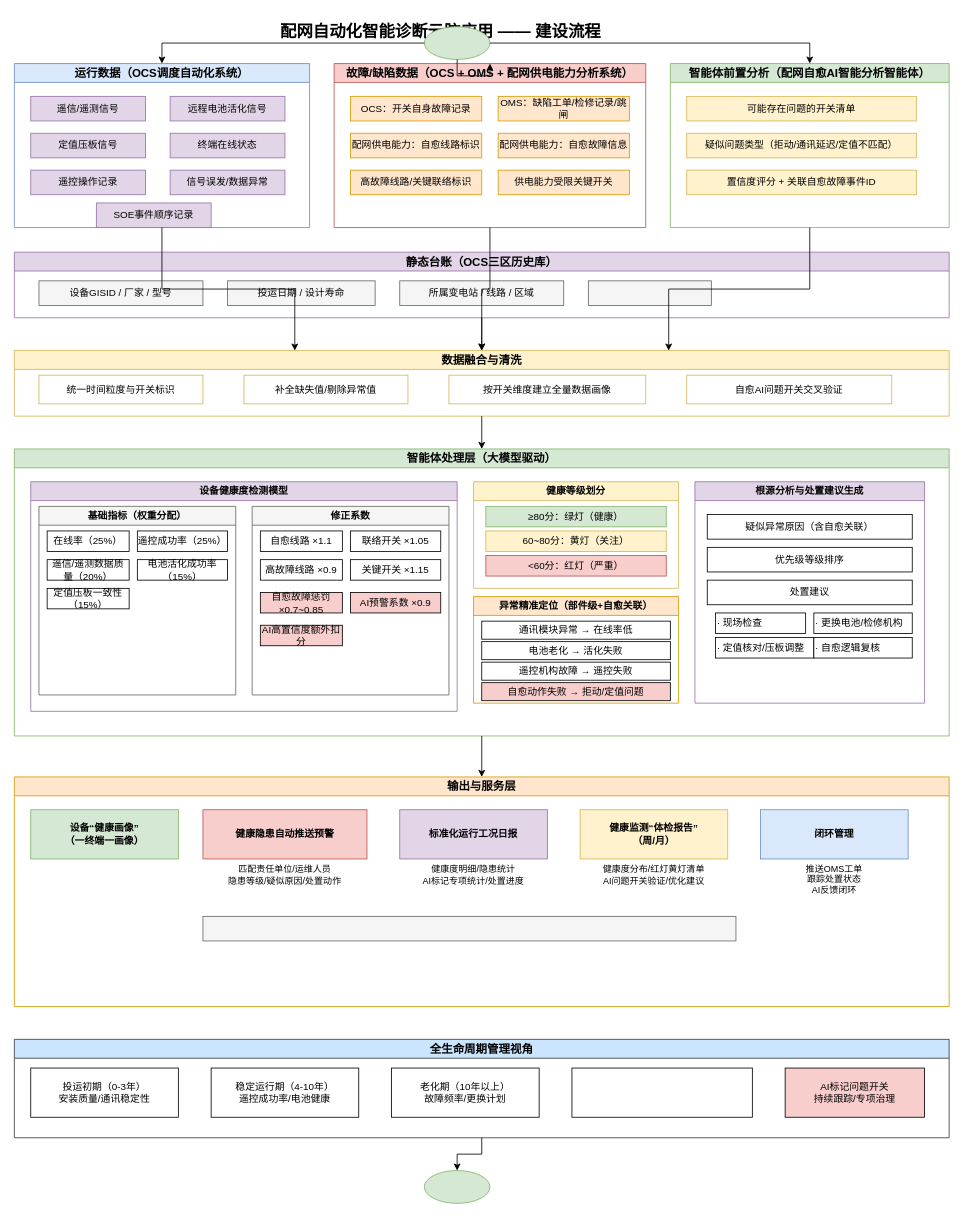
The diagram is 964 pixels wide and 1218 high, and some of its shapes have lost their labels. The shapes that lost their labels are listed below. From the top down, each one's centre as x and y in pixels, then its label:
[457,42]: 开始
[649,292]: 责任单位
[469,928]: 推送渠道：Elink / 短信 / OMS工单系统
[661,1092]: 自愈/关键位置开关 提高健康度要求/缩短巡检周期
[457,1186]: 结束
